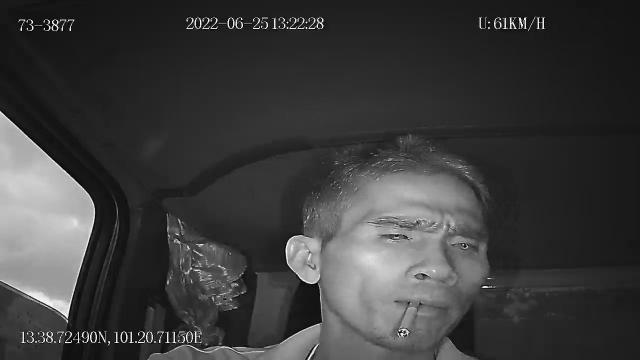SafeDriving: (442, 231, 485, 256), (374, 223, 418, 247)
Smoking: (398, 300, 418, 340)
